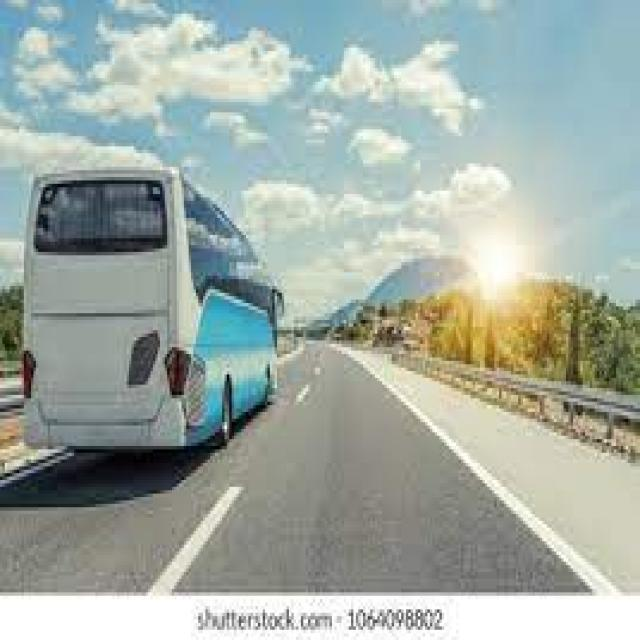BUS: (29, 153, 277, 453)
